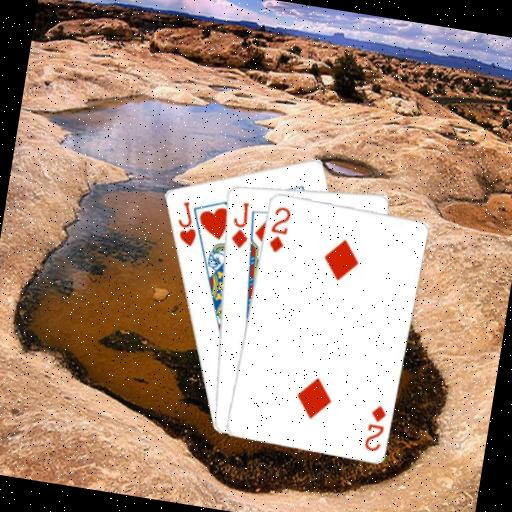2D: (263, 201, 292, 255), (360, 401, 389, 454)
JD: (225, 197, 254, 251)
JH: (170, 196, 202, 248)
